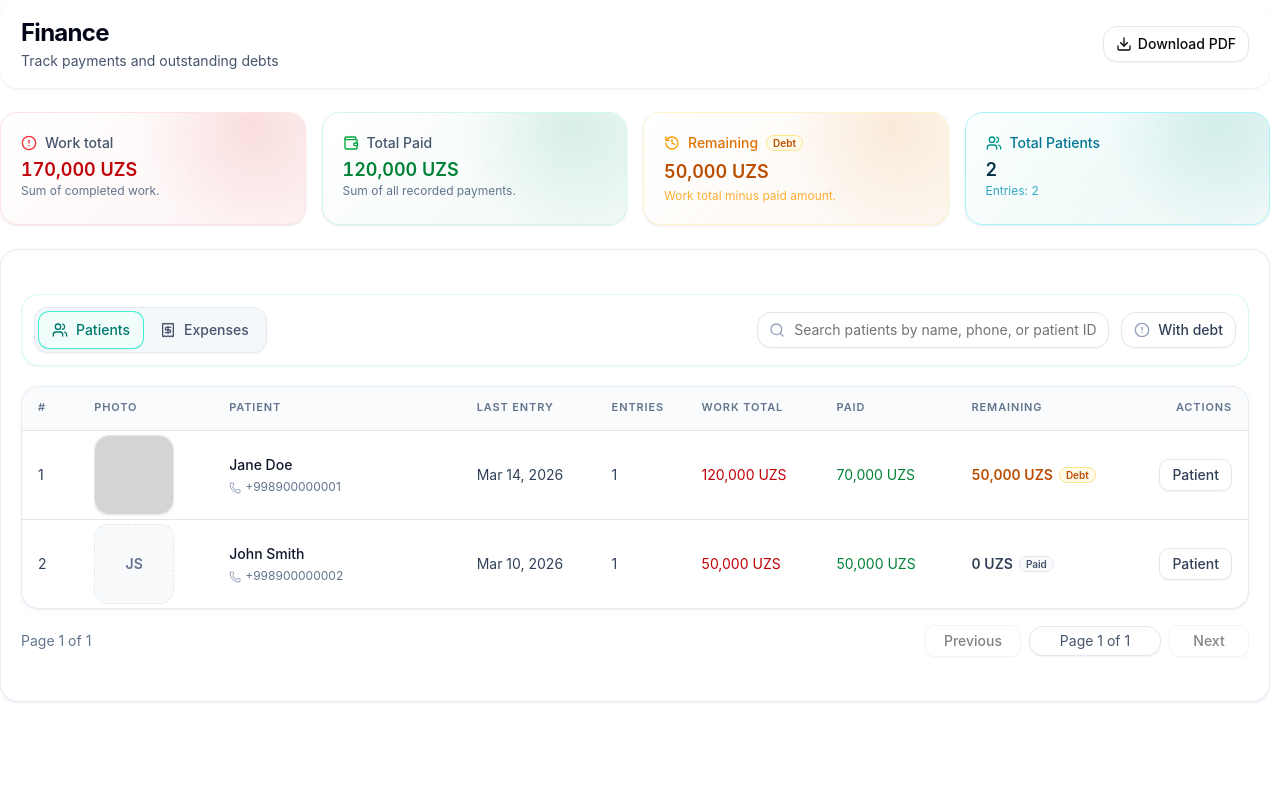
Test: PaymentsPage › switches to expenses and shows expense rows with matching summary cards
Click the button "Expenses".
click(204, 330)  # box [147,312,262,348]
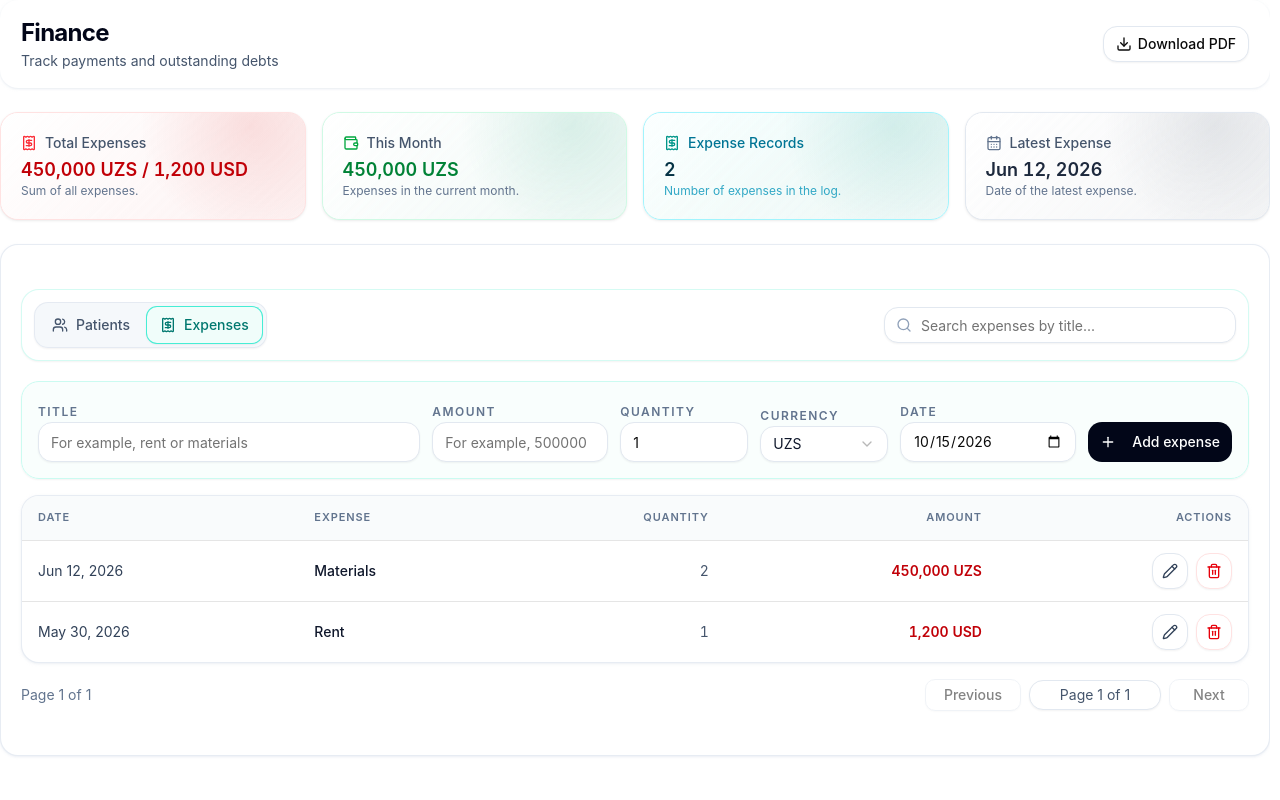
Check: the text "Materials" is shown, box [298,540,507,601]
Check: the text "Rent" is shown, box [298,601,507,662]
Check: the text "Total Expenses" is shown, box [21,134,146,151]
